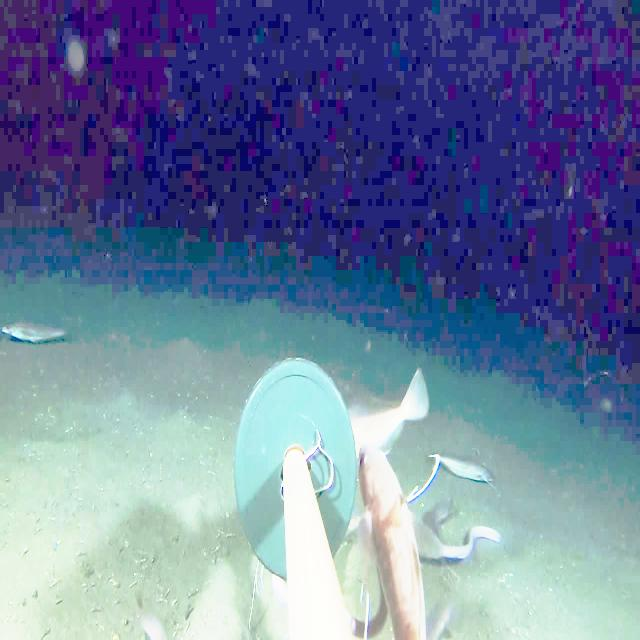fish: (358, 446, 434, 638), (339, 357, 432, 457), (412, 450, 496, 506), (0, 302, 84, 358), (418, 511, 502, 566), (125, 611, 192, 640), (256, 569, 286, 629)
pole: (238, 358, 354, 552), (278, 446, 354, 638)
